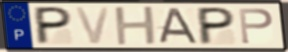A: (155, 7, 201, 46)
H: (113, 5, 160, 47)
P: (34, 5, 74, 46), (197, 6, 237, 46), (237, 7, 275, 46)
V: (72, 6, 112, 45)
